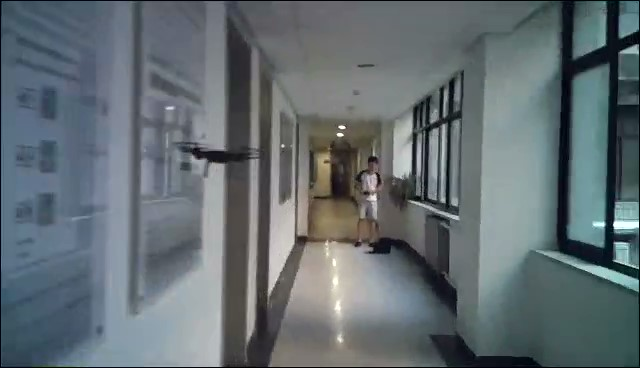drone: (171, 140, 267, 179)
person: (353, 156, 383, 247)
